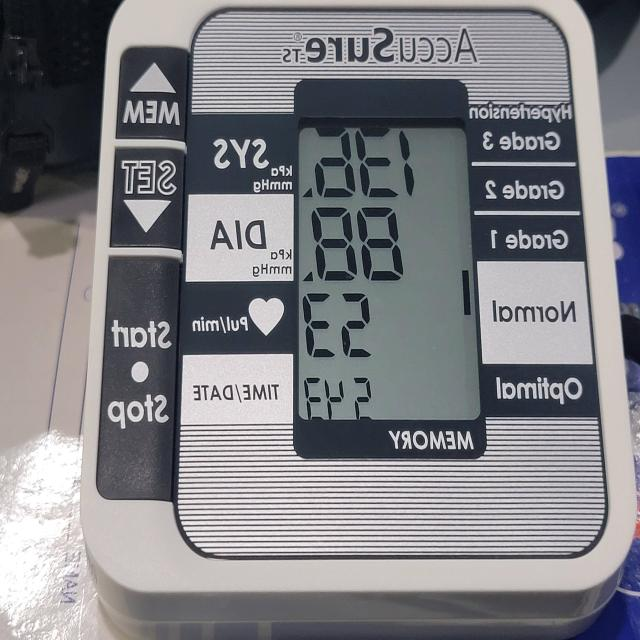bp: (77, 0, 640, 640)
